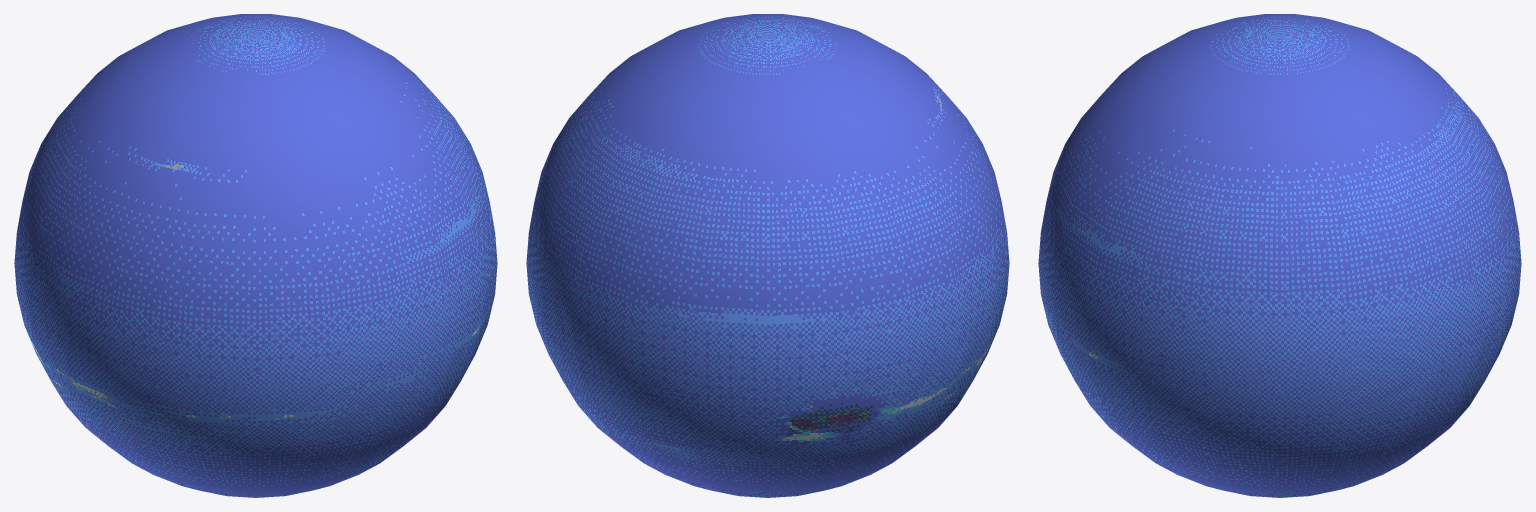
File: neptune.glb
The picture shows the model from 3 angles, left to right: view 1: azimuth 30°, elevation 25°; view 2: azimuth 150°, elevation 25°; view 3: azimuth 270°, elevation 25°; orthographic projection.
Parts seen in each view (by area): view 1: pSphere5; view 2: pSphere5; view 3: pSphere5.
Part boxes in pixels (x1,y1,x2,y2): pSphere5: [14, 14, 497, 497]; pSphere5: [526, 14, 1009, 497]; pSphere5: [1038, 14, 1521, 497].
Size of the model in its own units: 1.17 by 1.17 by 1.17.
1 material, 1 textured.
